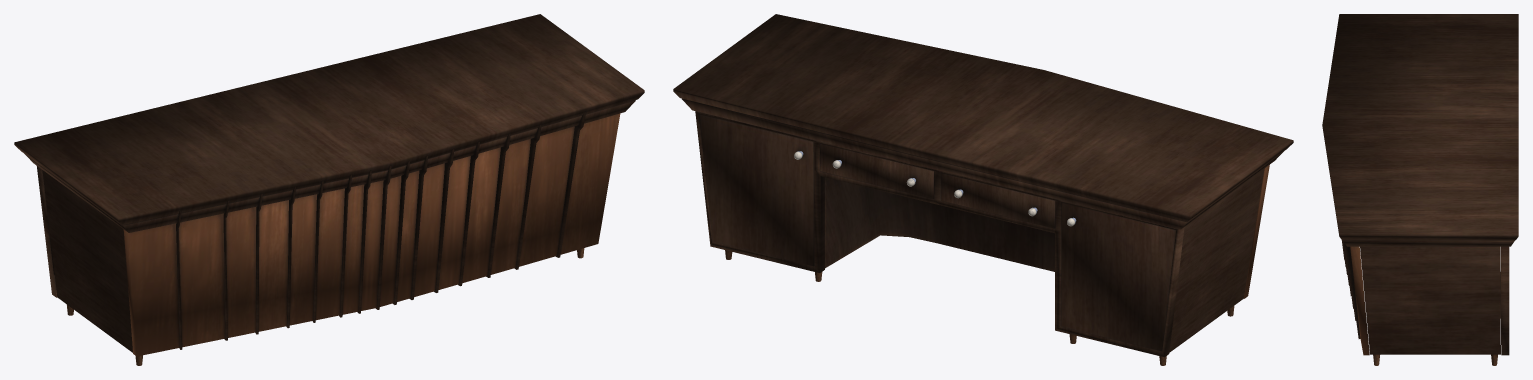
File: Secretaria (1).fbx
3 renders of one model, left to right at view 1: azimuth 30°, elevation 25°; view 2: azimuth 150°, elevation 25°; view 3: azimuth 270°, elevation 25°, orthographic. The views are drawn at different scales.
Parts seen in each view (by area): view 1: 2_low, 3_low, 1_low; view 2: 2_low, 3_low, 1_low; view 3: 2_low, 3_low, 1_low.
Boxes of the visible parts, left/top/right/bottom form: 2_low: left=14, top=14, right=644, bottom=232; 3_low: left=42, top=113, right=620, bottom=356; 1_low: left=37, top=112, right=585, bottom=365; 2_low: left=673, top=14, right=1293, bottom=229; 3_low: left=699, top=114, right=1269, bottom=352; 1_low: left=695, top=111, right=1234, bottom=365; 2_low: left=1322, top=14, right=1518, bottom=246; 3_low: left=1350, top=246, right=1500, bottom=355; 1_low: left=1341, top=240, right=1509, bottom=365.
Size of the model in its own units: 2594 by 974 by 812.
Materials: 1 (1 with a texture image).
